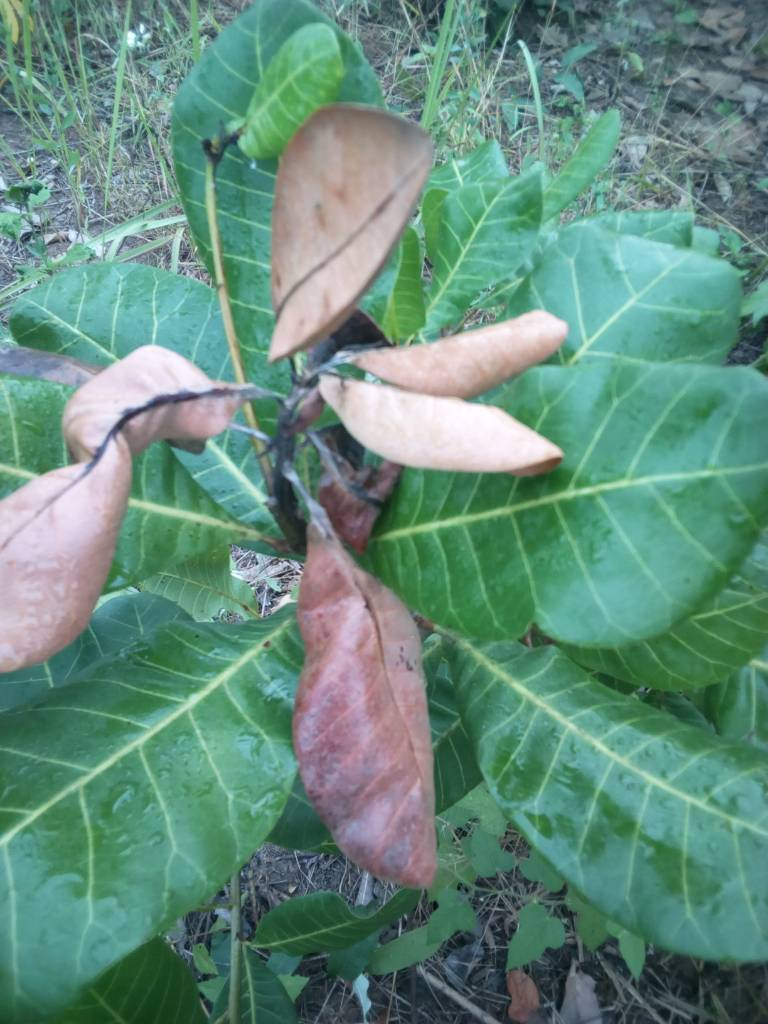Dessèchement des bourgeons: (255, 354, 353, 517), (197, 114, 260, 166)
